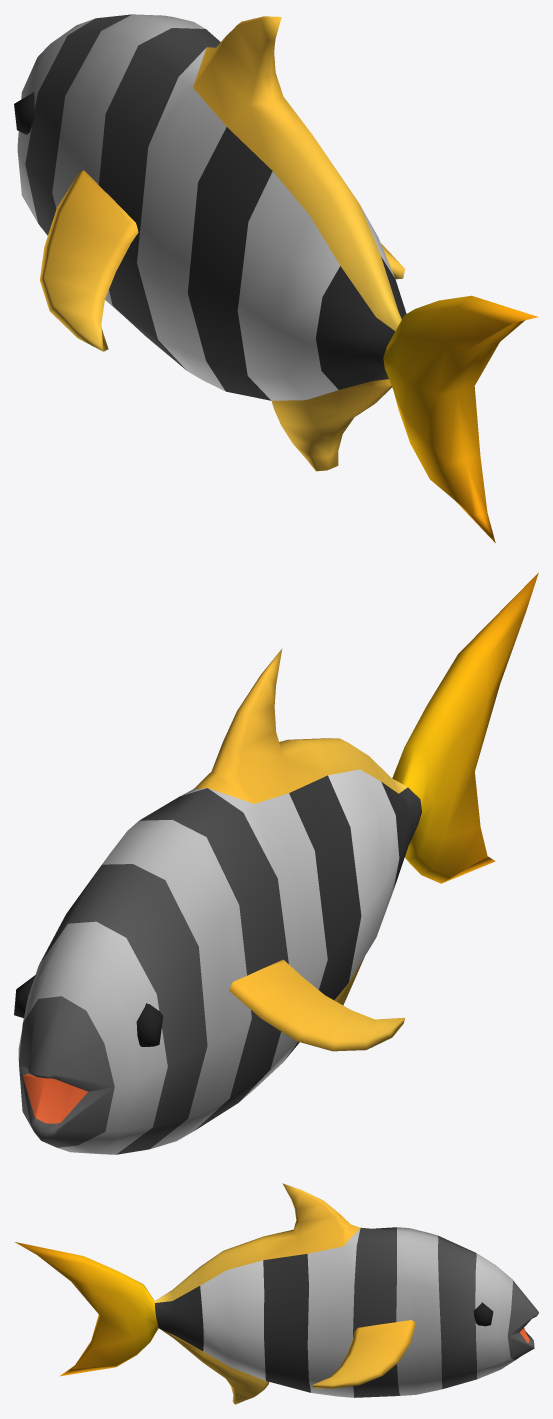
The model's file is Striped_Fish_01.fbx.
3 views of the same model, one above another, from view 1: azimuth 30°, elevation 25°; view 2: azimuth 150°, elevation 25°; view 3: azimuth 270°, elevation 25° (orthographic). The views are drawn at different scales.
Parts seen in each view (by area): view 1: Striped_Fish_01; view 2: Striped_Fish_01; view 3: Striped_Fish_01.
Boxes of the visible parts, x1,y1,x2,y2 form: Striped_Fish_01: (14, 14, 538, 542); Striped_Fish_01: (14, 572, 538, 1154); Striped_Fish_01: (15, 1183, 538, 1404).
Size of the model in its own units: 35.66 by 45.31 by 98.16.
